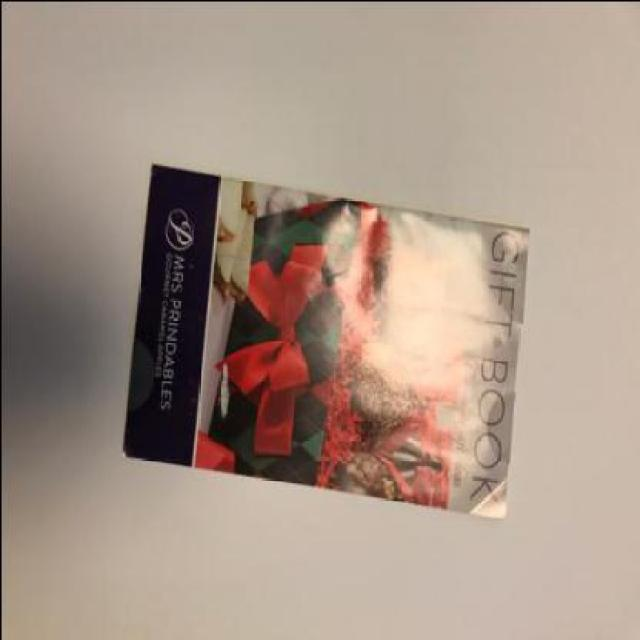PAPER: (121, 162, 530, 518)
